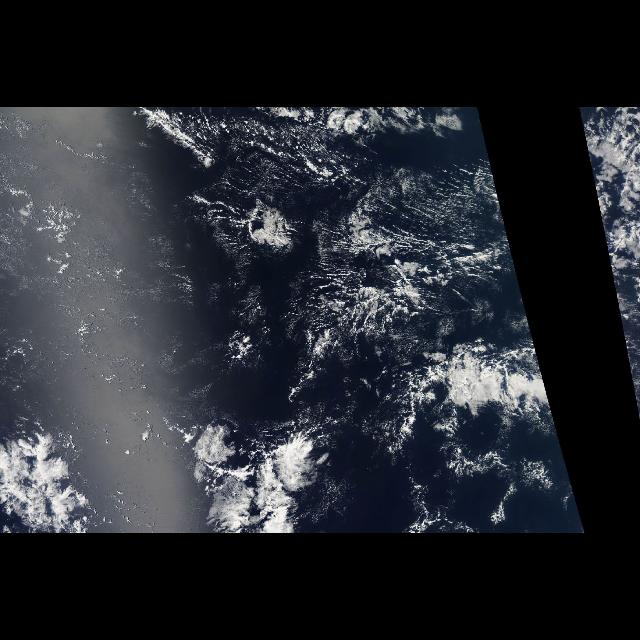Fish: (387, 326, 558, 436)
Flower: (164, 420, 314, 532), (0, 424, 100, 534)
